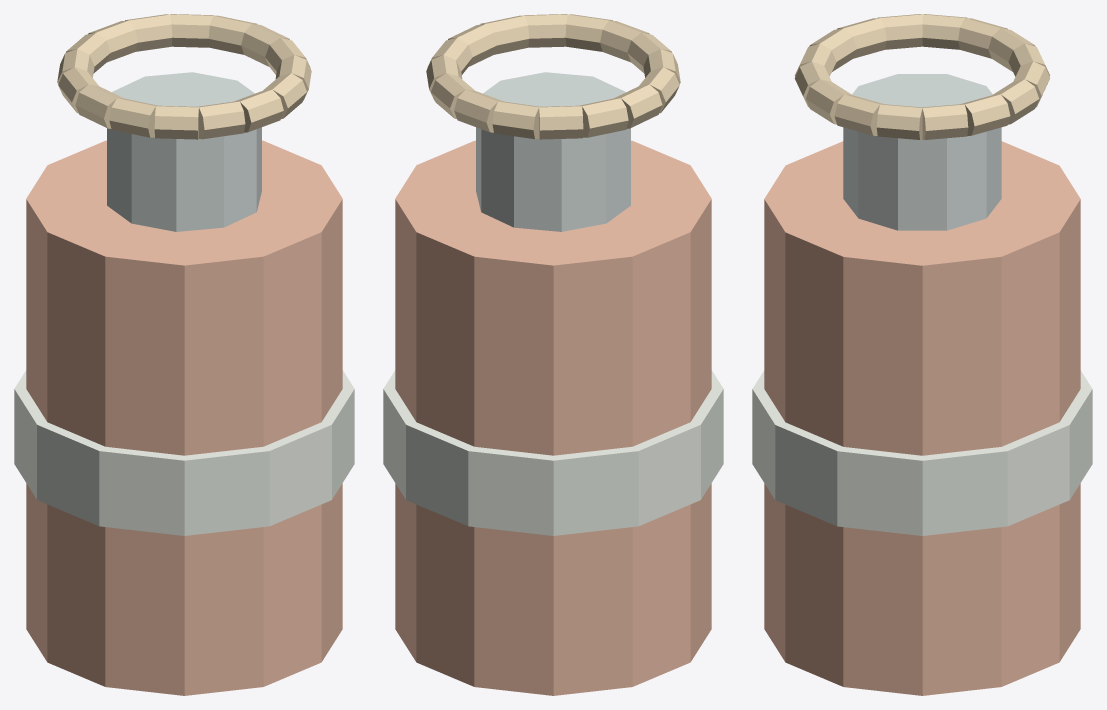
File: buoy_marker.glb
3 renders of one model, left to right at view 1: azimuth 30°, elevation 25°; view 2: azimuth 150°, elevation 25°; view 3: azimuth 270°, elevation 25°, orthographic.
Parts seen in each view (by area): view 1: buoy_marker_plastic_coral, buoy_marker_plastic_white, buoy_marker_rope, buoy_marker_metal_edge; view 2: buoy_marker_plastic_coral, buoy_marker_plastic_white, buoy_marker_rope, buoy_marker_metal_edge; view 3: buoy_marker_plastic_coral, buoy_marker_plastic_white, buoy_marker_metal_edge, buoy_marker_rope.
Boxes of the visible parts, left/top/right/bottom form: buoy_marker_plastic_coral: left=26, top=140, right=342, bottom=695; buoy_marker_plastic_white: left=14, top=370, right=354, bottom=535; buoy_marker_rope: left=57, top=14, right=311, bottom=139; buoy_marker_metal_edge: left=107, top=72, right=261, bottom=231; buoy_marker_plastic_coral: left=395, top=140, right=711, bottom=695; buoy_marker_plastic_white: left=383, top=370, right=723, bottom=535; buoy_marker_rope: left=426, top=14, right=680, bottom=139; buoy_marker_metal_edge: left=476, top=72, right=630, bottom=231; buoy_marker_plastic_coral: left=764, top=141, right=1080, bottom=695; buoy_marker_plastic_white: left=752, top=370, right=1092, bottom=535; buoy_marker_metal_edge: left=843, top=74, right=1001, bottom=230; buoy_marker_rope: left=794, top=14, right=1050, bottom=139.
Size of the model in its own units: 0.43 by 0.792 by 0.43.
